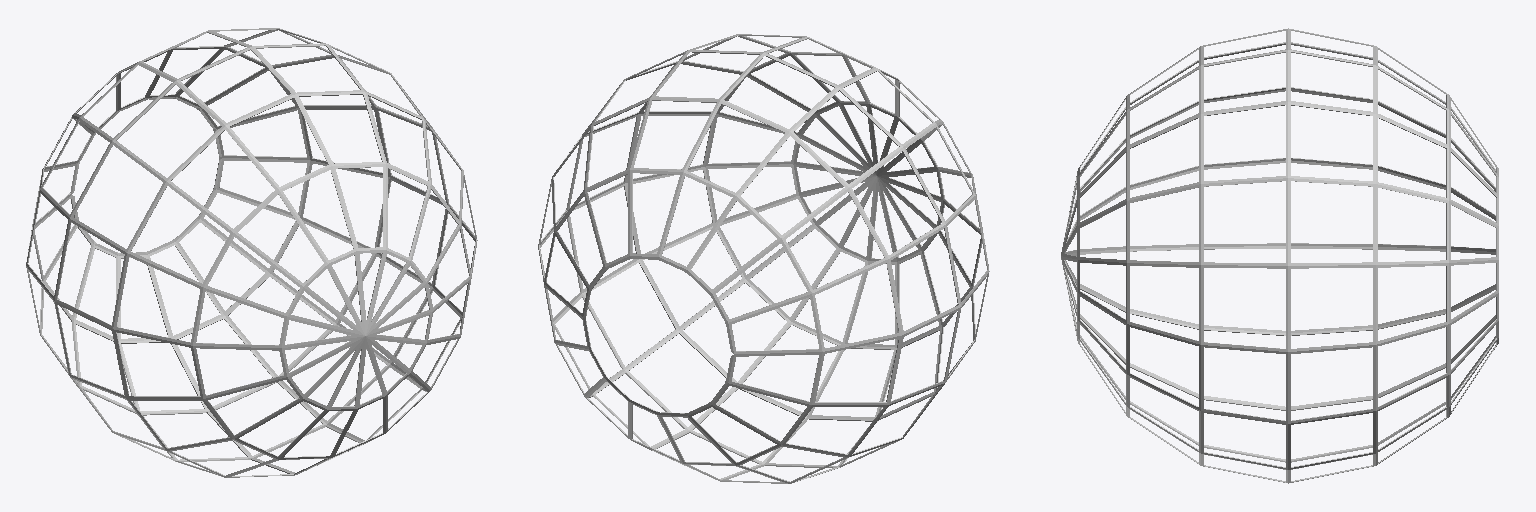
Rendered from SkyWiresLame_Centered.obj.
The picture shows the model from 3 angles: view 1: azimuth 30°, elevation 25°; view 2: azimuth 150°, elevation 25°; view 3: azimuth 270°, elevation 25°; orthographic projection.
Parts seen in each view (by area): view 1: sphere1; view 2: sphere1; view 3: sphere1.
Boxes of the visible parts, <box> form: sphere1: <box>26,28,477,477</box>; sphere1: <box>538,34,989,483</box>; sphere1: <box>1061,28,1498,483</box>.
Bounding box in the file's own units: 2 × 2 × 1.93.